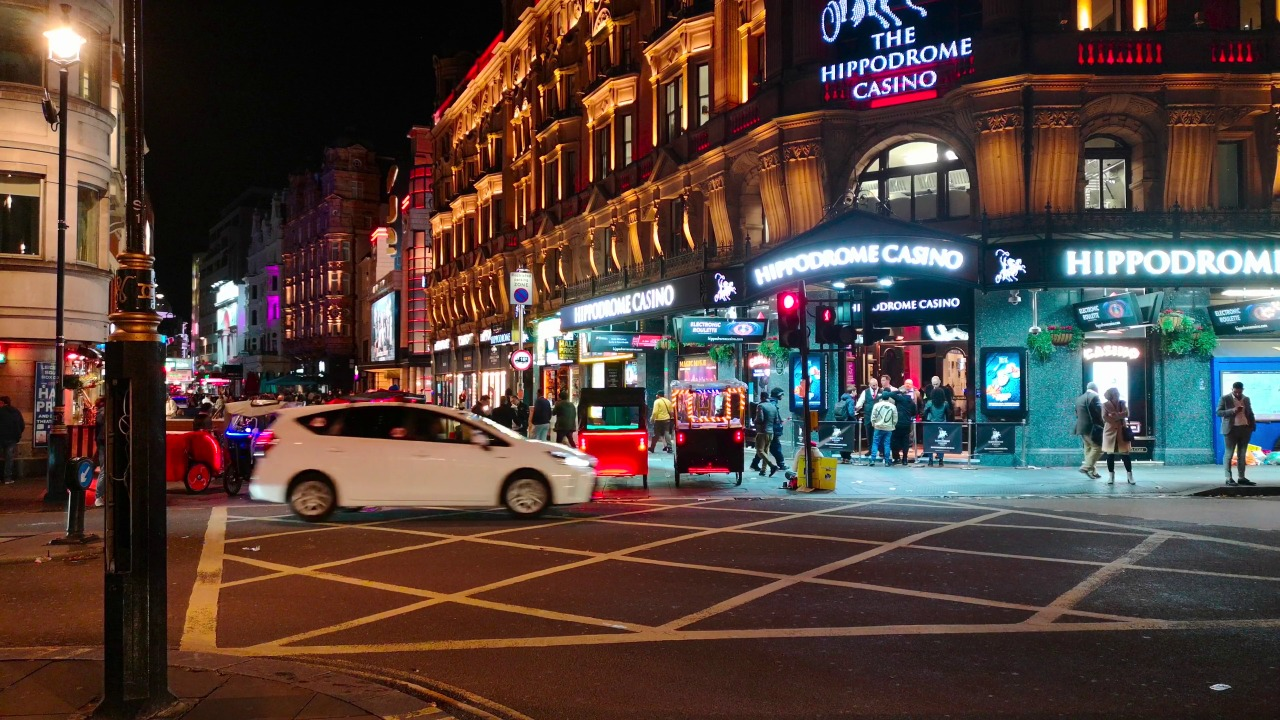car: (276, 413, 586, 507), (679, 387, 746, 487), (589, 393, 655, 487), (169, 429, 222, 487), (231, 403, 259, 434)
person: (1070, 374, 1103, 483), (1222, 377, 1253, 487), (82, 399, 110, 510), (1105, 394, 1132, 493), (782, 439, 833, 489), (870, 389, 894, 465), (926, 390, 947, 471), (837, 382, 855, 468), (653, 389, 673, 456), (756, 390, 770, 479), (897, 405, 915, 465), (775, 389, 788, 461), (551, 392, 570, 412), (899, 381, 917, 402), (533, 389, 545, 416), (474, 388, 488, 410), (926, 376, 947, 389), (509, 394, 525, 411), (883, 372, 893, 390), (861, 376, 877, 387), (498, 396, 504, 408)
